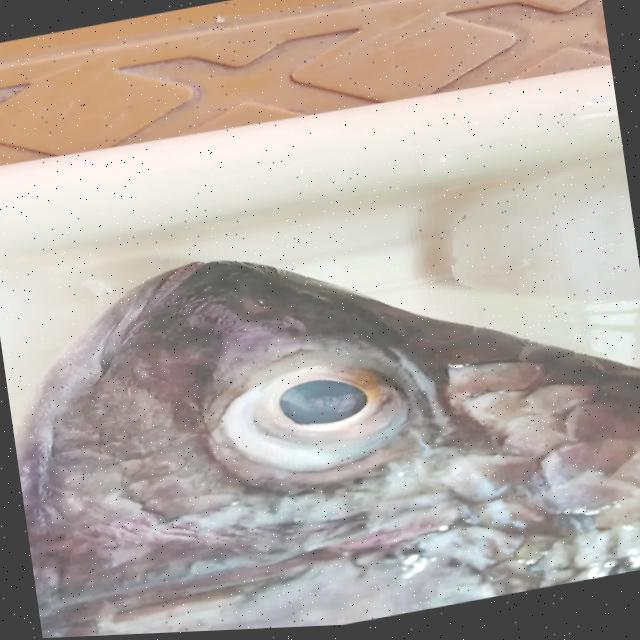Fresh: (182, 325, 452, 510)
